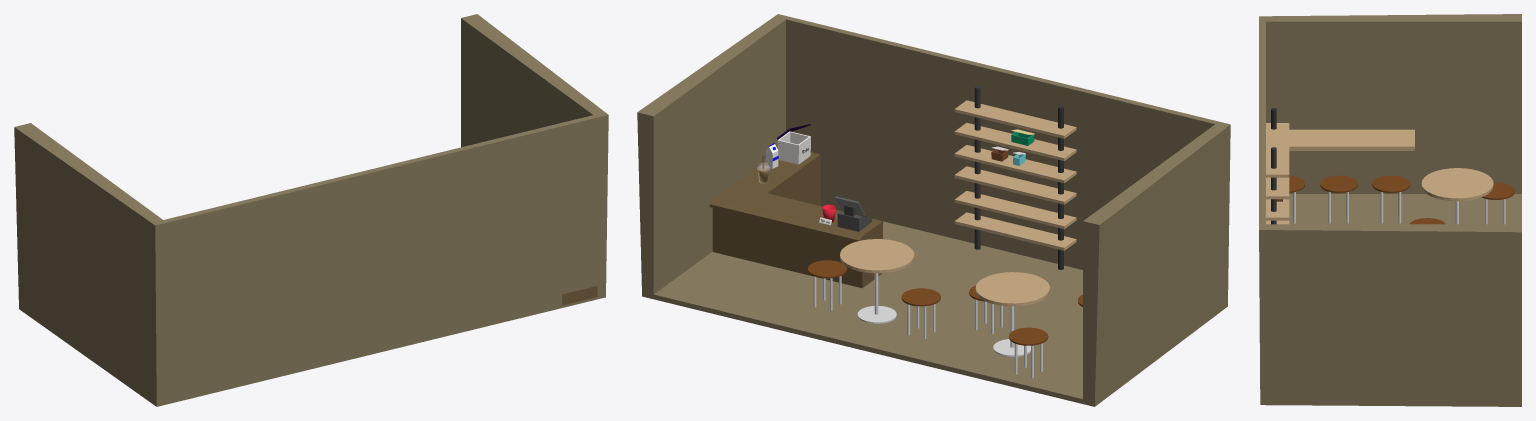
File: cafe01.glb
3 views of the same model, side by side, from view 1: azimuth 30°, elevation 25°; view 2: azimuth 150°, elevation 25°; view 3: azimuth 270°, elevation 25° (orthographic). The views are drawn at different scales.
Visible parts, largest first — view 1: Cube; view 2: Cube, Plane, Cube.003, Cylinder.036, Cylinder.003, Cylinder.038, Cube.004, Cylinder.043, Cylinder.030, Cube.019; view 3: Cube, Cube.001, Cube.003, Cylinder.003, Cylinder.017, Cylinder.022, Cylinder.030, Cylinder.023.
Part boxes in pixels (box(x1,y1,x2,y2)): Cube: box(14, 14, 608, 406); Cube: box(637, 14, 1230, 406); Plane: box(709, 152, 882, 288); Cube.003: box(954, 86, 1076, 269); Cylinder.036: box(840, 239, 914, 323); Cylinder.003: box(975, 272, 1049, 356); Cylinder.038: box(901, 288, 940, 338); Cube.004: box(777, 124, 810, 164); Cylinder.043: box(807, 260, 846, 310); Cylinder.030: box(1009, 327, 1048, 378); Cube.019: box(835, 196, 871, 231); Cube: box(1259, 14, 1521, 406); Cube.001: box(1289, 129, 1414, 150); Cube.003: box(1266, 108, 1289, 224); Cylinder.003: box(1421, 168, 1493, 224); Cylinder.017: box(1372, 175, 1410, 223); Cylinder.022: box(1320, 175, 1357, 223); Cylinder.030: box(1482, 182, 1514, 224); Cylinder.023: box(1289, 175, 1304, 223).
Size of the model in its own units: 54.49 by 20.61 by 27.75.
